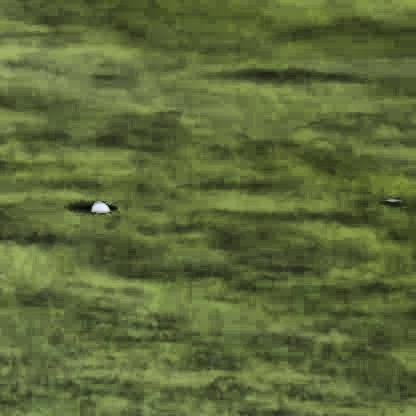golfball: (90, 205, 108, 215)
